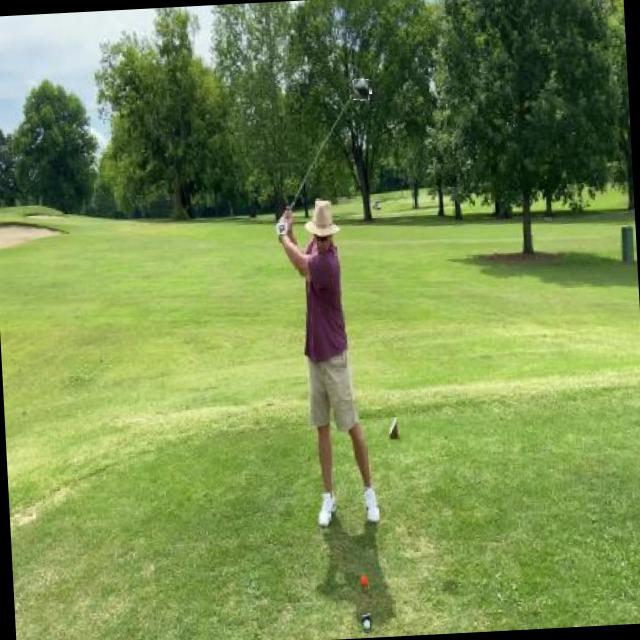club head: (353, 79, 372, 101)
